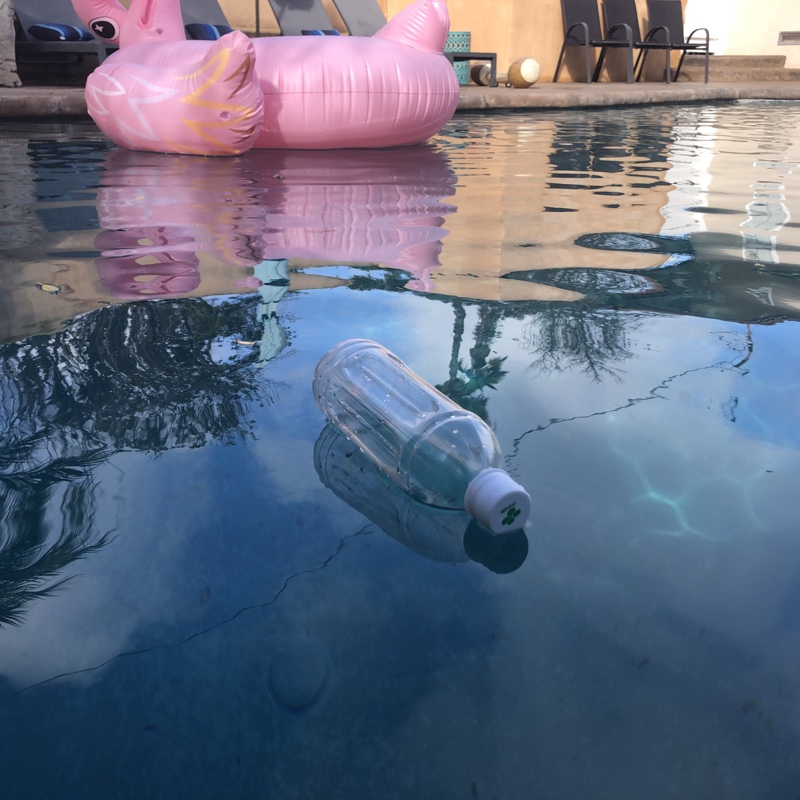Plastic Bottle: (309, 335, 538, 542)
